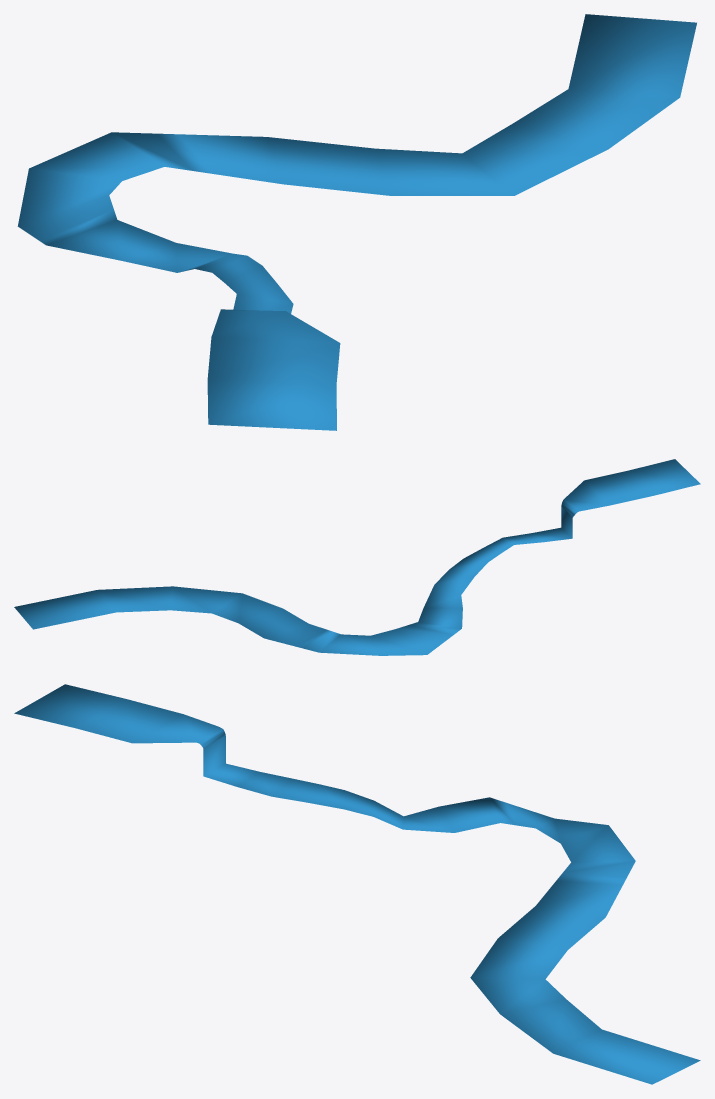
File: river.glb
3 views of the same model, one above another, from view 1: azimuth 30°, elevation 25°; view 2: azimuth 150°, elevation 25°; view 3: azimuth 270°, elevation 25° (orthographic). The views are drawn at different scales.
Parts seen in each view (by area): view 1: Plane.001; view 2: Plane.001; view 3: Plane.001.
Part boxes in pixels (x1,y1,x2,y2): Plane.001: [17, 14, 696, 430]; Plane.001: [14, 459, 700, 655]; Plane.001: [14, 684, 700, 1084].
Size of the model in its own units: 108 by 16.48 by 104.
